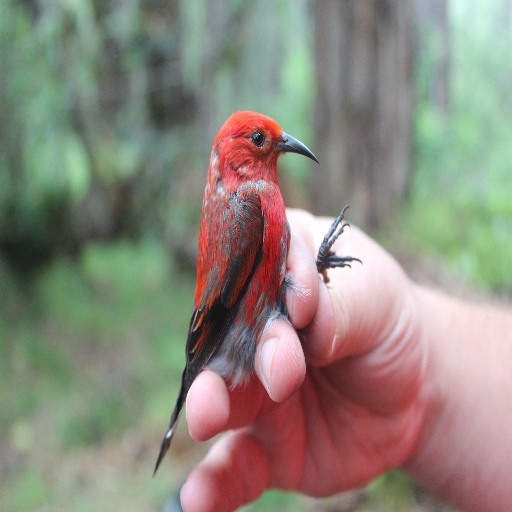hand: (177, 205, 422, 511)
